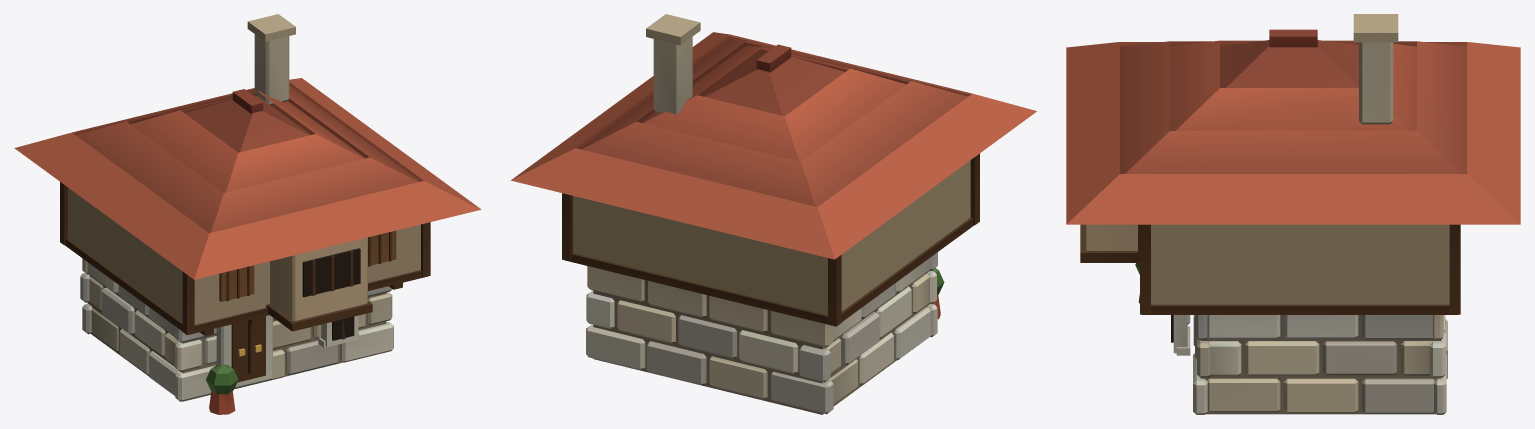
Rendered from city_house_1.glb.
3 renders of one model, left to right at view 1: azimuth 30°, elevation 25°; view 2: azimuth 150°, elevation 25°; view 3: azimuth 270°, elevation 25°, orthographic. The views are drawn at different scales.
Visible parts, largest first — view 1: city_house_1; view 2: city_house_1; view 3: city_house_1.
Part boxes in pixels (x1,y1,x2,y2): city_house_1: [14, 14, 481, 414]; city_house_1: [511, 14, 1036, 414]; city_house_1: [1066, 14, 1520, 414].
Bounding box in the file's own units: 0.609 × 0.5825 × 0.6597.
